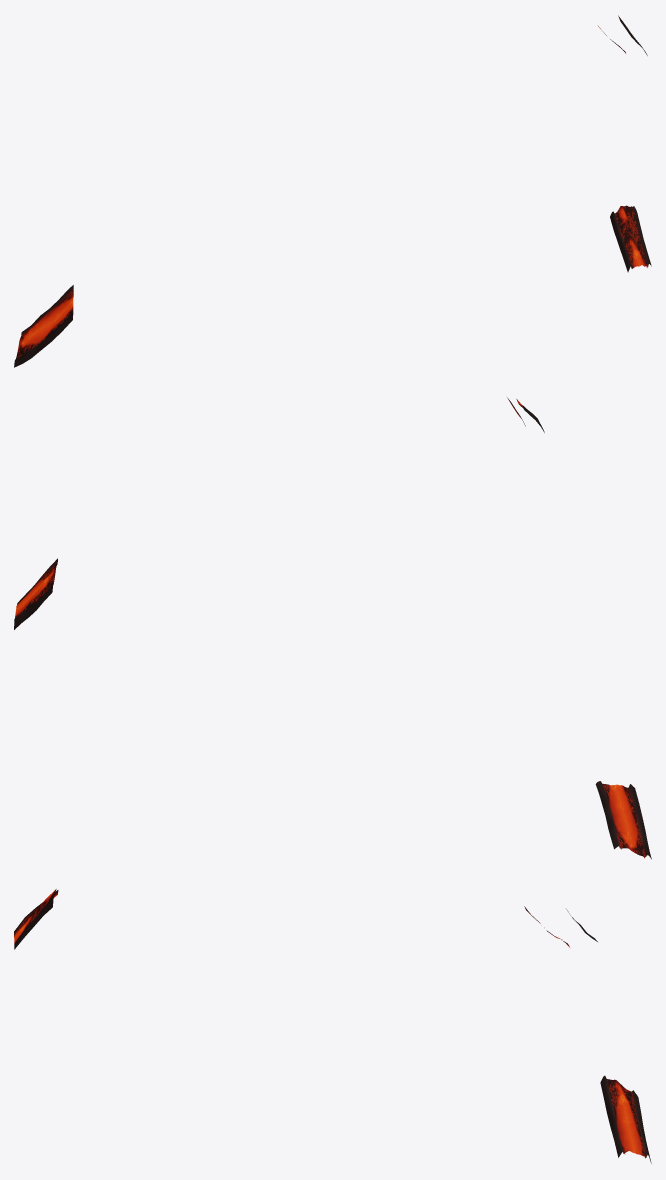
The model's file is lava_seg_8.glb.
3 renders of one model, top to bottom at view 1: azimuth 30°, elevation 25°; view 2: azimuth 150°, elevation 25°; view 3: azimuth 270°, elevation 25°, orthographic. The views are drawn at different scales.
Visible parts, largest first — view 1: seg; view 2: seg; view 3: seg.
Boxes of the visible parts, box(x1,y1,x2,y2) form: seg: box(14, 15, 651, 367); seg: box(14, 397, 651, 859); seg: box(14, 889, 651, 1163).
Bounding box in the file's own units: 101 × 34.8 × 76.7.
